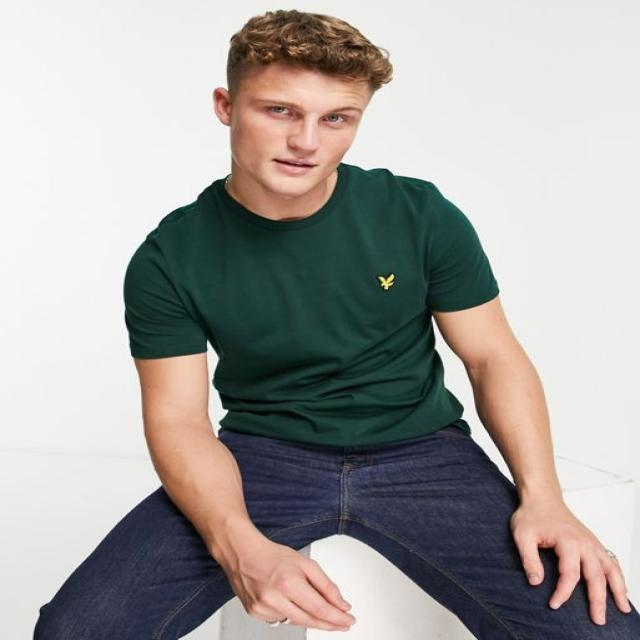tshirt: (120, 162, 503, 450)
